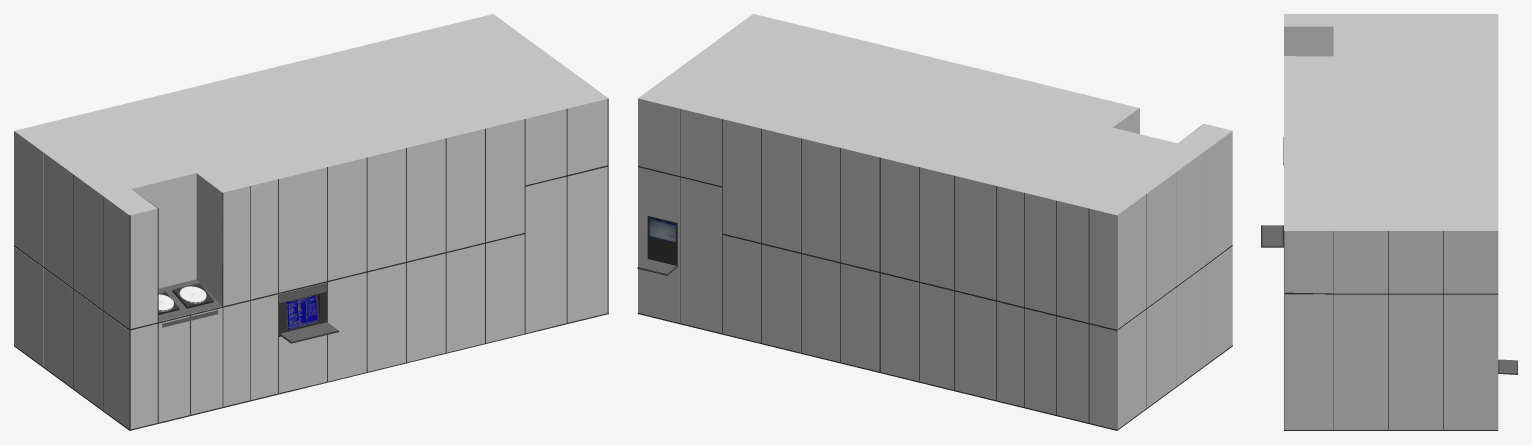
3 renders of one model, left to right at view 1: azimuth 30°, elevation 25°; view 2: azimuth 150°, elevation 25°; view 3: azimuth 270°, elevation 25°, orthographic. The views are drawn at different scales.
Parts seen in each view (by area): view 1: Cube; view 2: Cube; view 3: Cube.
Boxes of the visible parts, <box> form: Cube: <box>14,14,608,430</box>; Cube: <box>637,14,1232,430</box>; Cube: <box>1261,14,1517,430</box>.
Size of the model in its own units: 10.73 by 4.61 by 5.37.
11 materials, 6 textured.
